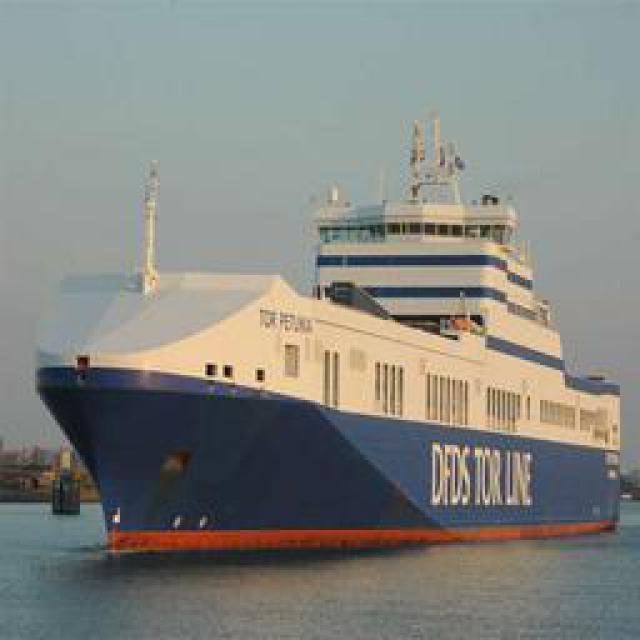Ship: (30, 115, 633, 568)
